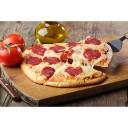pepperonipizza: (23, 40, 112, 86)
